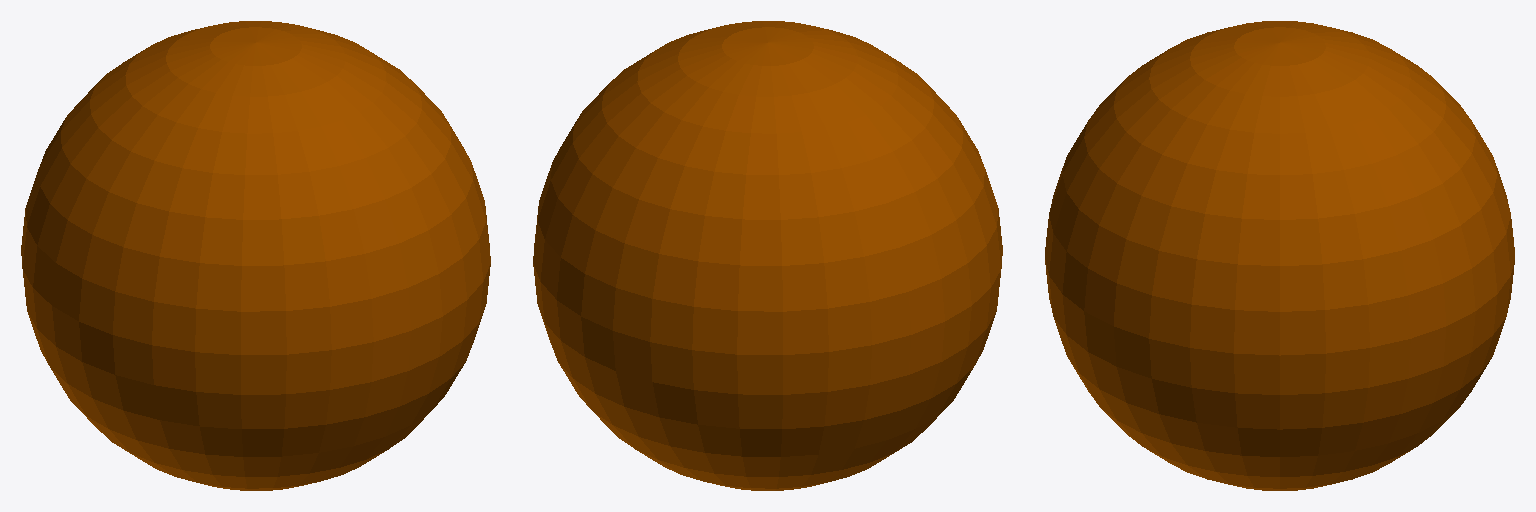
The model's file is sun.obj.
3 renders of one model, left to right at view 1: azimuth 30°, elevation 25°; view 2: azimuth 150°, elevation 25°; view 3: azimuth 270°, elevation 25°, orthographic.
Parts seen in each view (by area): view 1: Sphere_Sphere.001; view 2: Sphere_Sphere.001; view 3: Sphere_Sphere.001.
Part boxes in pixels (x1,y1,x2,y2): Sphere_Sphere.001: (21,21,490,490); Sphere_Sphere.001: (533,21,1002,490); Sphere_Sphere.001: (1045,21,1514,490).
Bounding box in the file's own units: 3.18 × 3.18 × 3.18.